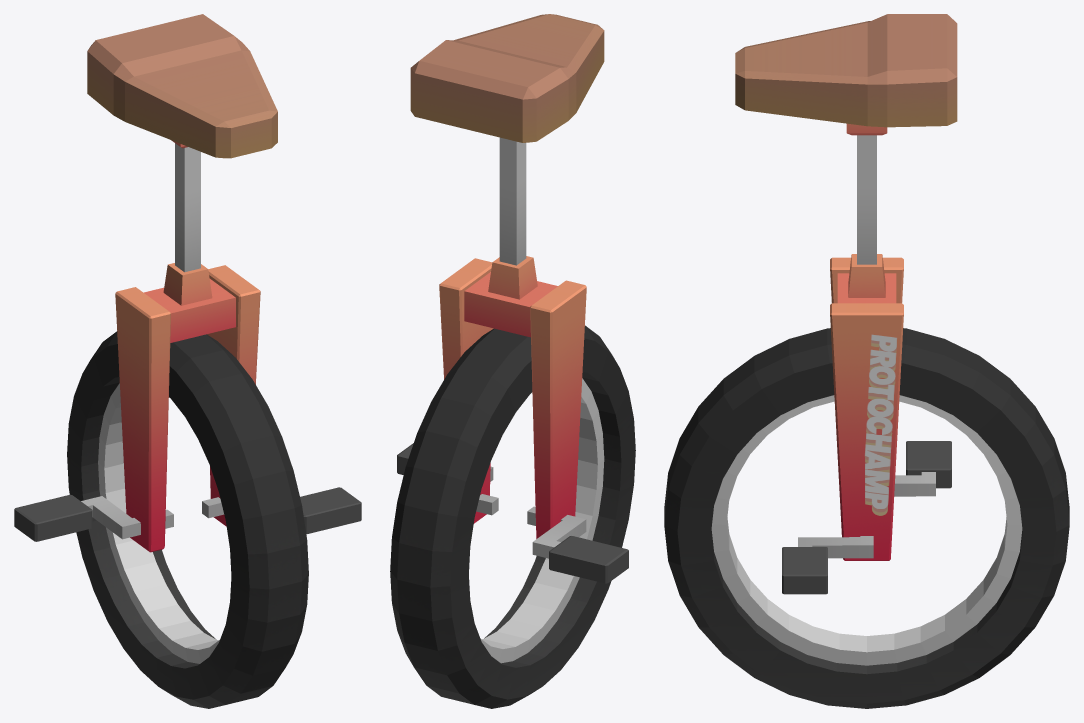
Rendered from PROTO_pedelfixed.fbx.
3 renders of one model, left to right at view 1: azimuth 30°, elevation 25°; view 2: azimuth 150°, elevation 25°; view 3: azimuth 270°, elevation 25°, orthographic. The views are drawn at different scales.
Visible parts, largest first — view 1: Circle.005, Cube.024, Cube.116, Cube.115, Cube.023; view 2: Circle.005, Cube.024, Cube.116, Cube.023, Cube.022; view 3: Circle.005, Cube.024, Cube.115, Cube.116, Cube.022, Cube.023.
Part boxes in pixels (bbox=[...]): Circle.005: bbox=[67, 331, 308, 708]; Cube.024: bbox=[87, 14, 277, 552]; Cube.116: bbox=[14, 494, 92, 541]; Cube.115: bbox=[300, 487, 361, 534]; Cube.023: bbox=[81, 496, 173, 539]; Circle.005: bbox=[390, 325, 635, 708]; Cube.024: bbox=[410, 14, 604, 538]; Cube.116: bbox=[549, 536, 628, 583]; Cube.023: bbox=[527, 506, 586, 558]; Cube.022: bbox=[476, 466, 498, 515]; Circle.005: bbox=[664, 328, 1069, 708]; Cube.024: bbox=[735, 14, 957, 560]; Cube.115: bbox=[782, 547, 827, 594]; Cube.116: bbox=[906, 441, 951, 488]; Cube.022: bbox=[798, 536, 873, 558]; Cube.023: bbox=[894, 472, 935, 496].
Size of the model in its own units: 337 by 766 by 427.
